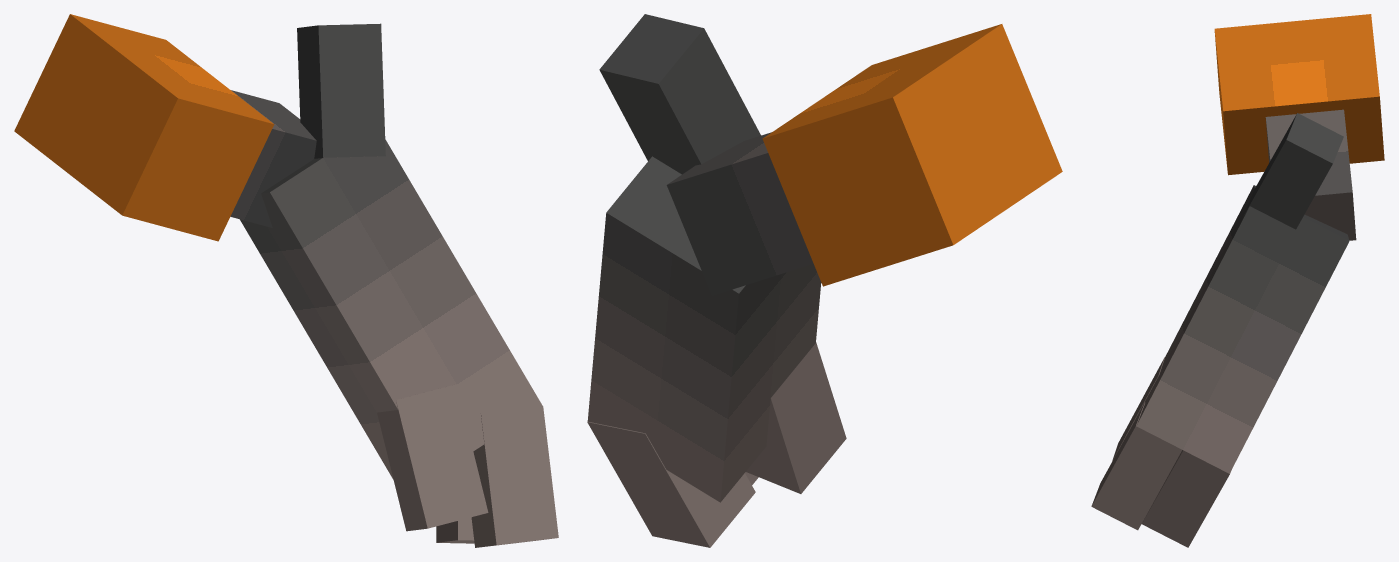
The model's file is grunt_brazo_izq.obj.
3 views of the same model, side by side, from view 1: azimuth 30°, elevation 25°; view 2: azimuth 150°, elevation 25°; view 3: azimuth 270°, elevation 25° (orthographic). The views are drawn at different scales.
Parts seen in each view (by area): view 1: brazo_izq_material_0; view 2: brazo_izq_material_0; view 3: brazo_izq_material_0.
Boxes of the visible parts, left/top/right/bottom form: brazo_izq_material_0: left=14, top=14, right=558, bottom=547; brazo_izq_material_0: left=587, top=14, right=1062, bottom=547; brazo_izq_material_0: left=1091, top=14, right=1384, bottom=547.
Size of the model in its own units: 0.4283 by 0.5429 by 0.3495.
1 material, 1 textured.
